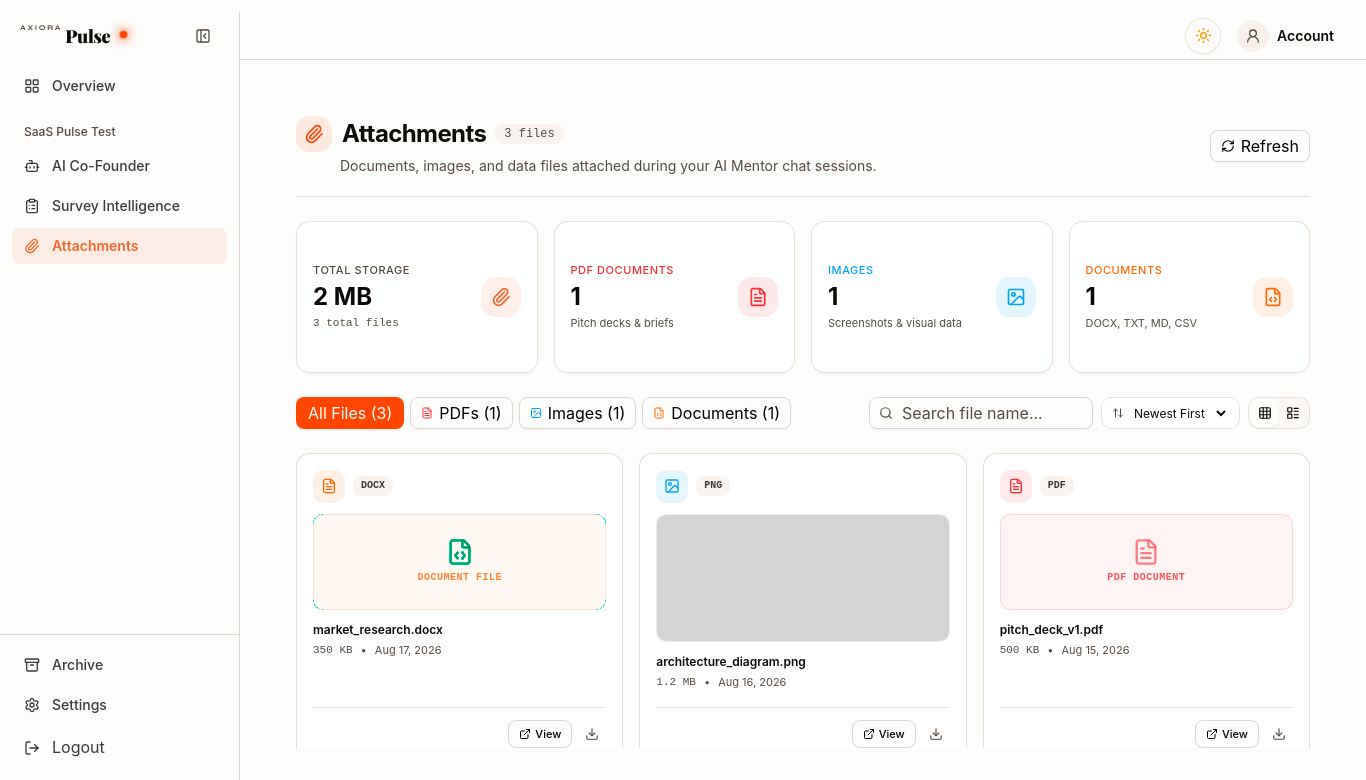
Test: WorkspaceAttachmentsPage › filters attachments by category tabs
Note: Click PDFs filter
Click the button "PDFs (1)".
click(462, 413)  # box [410,397,513,429]
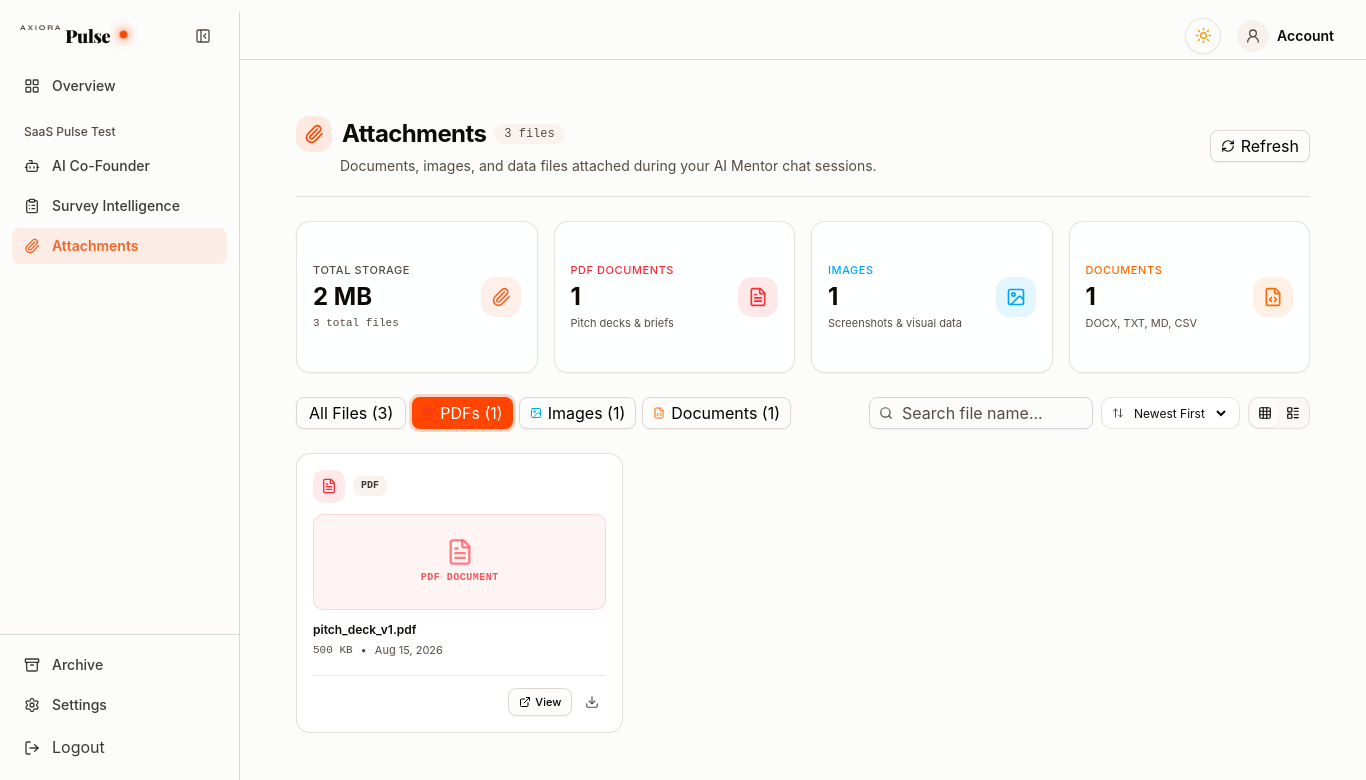
Check: the heading "pitch_deck_v1.pdf" is shown, box [313,622,416,637]
Check: the heading "architecture_diagram.png" is gone
Check: the heading "market_research.docx" is gone
Note: Click Images filter
Click the button "Images (1)".
click(578, 413)  # box [519,397,636,429]
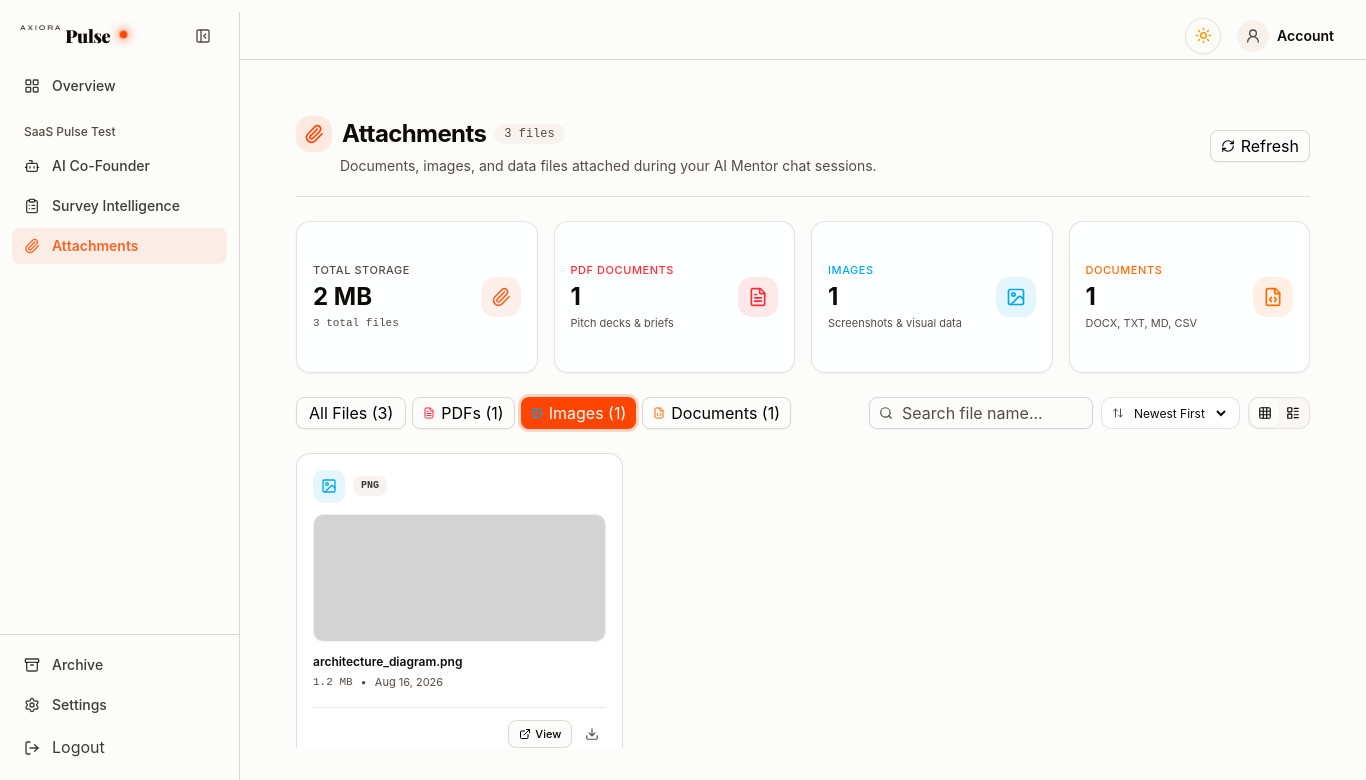
Check: the heading "pitch_deck_v1.pdf" is gone
Check: the heading "architecture_diagram.png" is shown, box [313,654,462,669]
